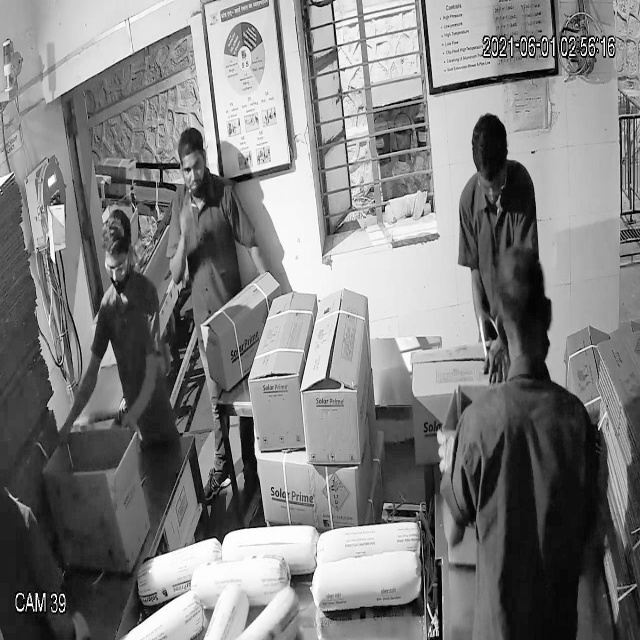Gafas: (100, 244, 133, 282)
